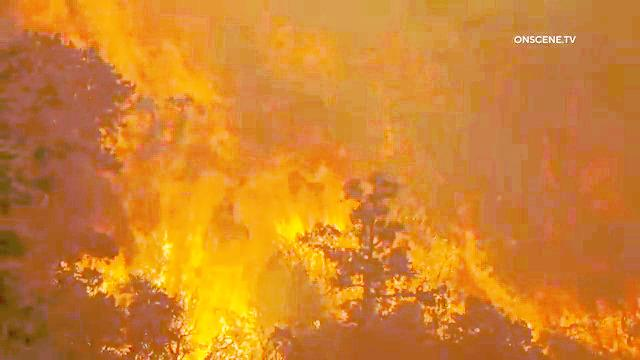fire: (291, 179, 640, 360), (86, 166, 296, 360)
